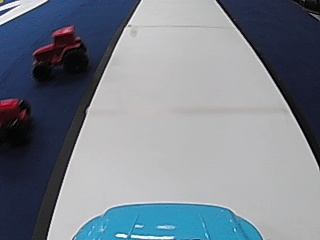tractor: (28, 23, 90, 82), (1, 94, 31, 144)
